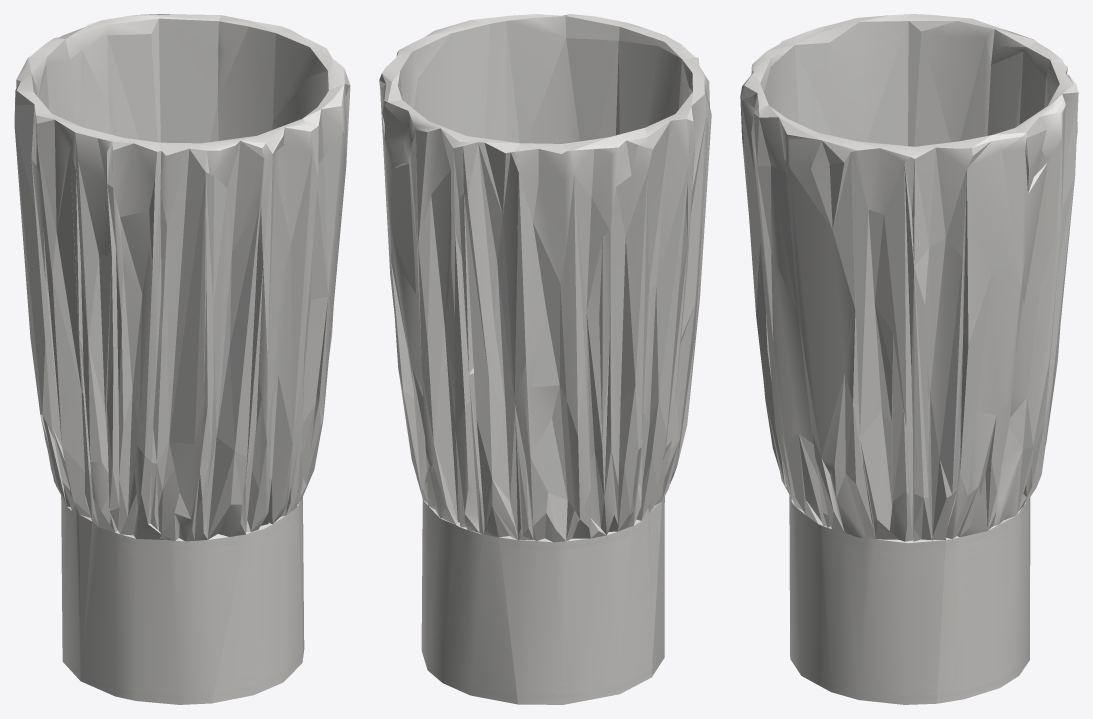
The model's file is chef_hat.glb.
The picture shows the model from 3 angles, left to right: view 1: azimuth 30°, elevation 25°; view 2: azimuth 150°, elevation 25°; view 3: azimuth 270°, elevation 25°; orthographic projection.
Size of the model in its own units: 1.01 by 1.9 by 1.02.
Materials: 1 (1 with a texture image).
